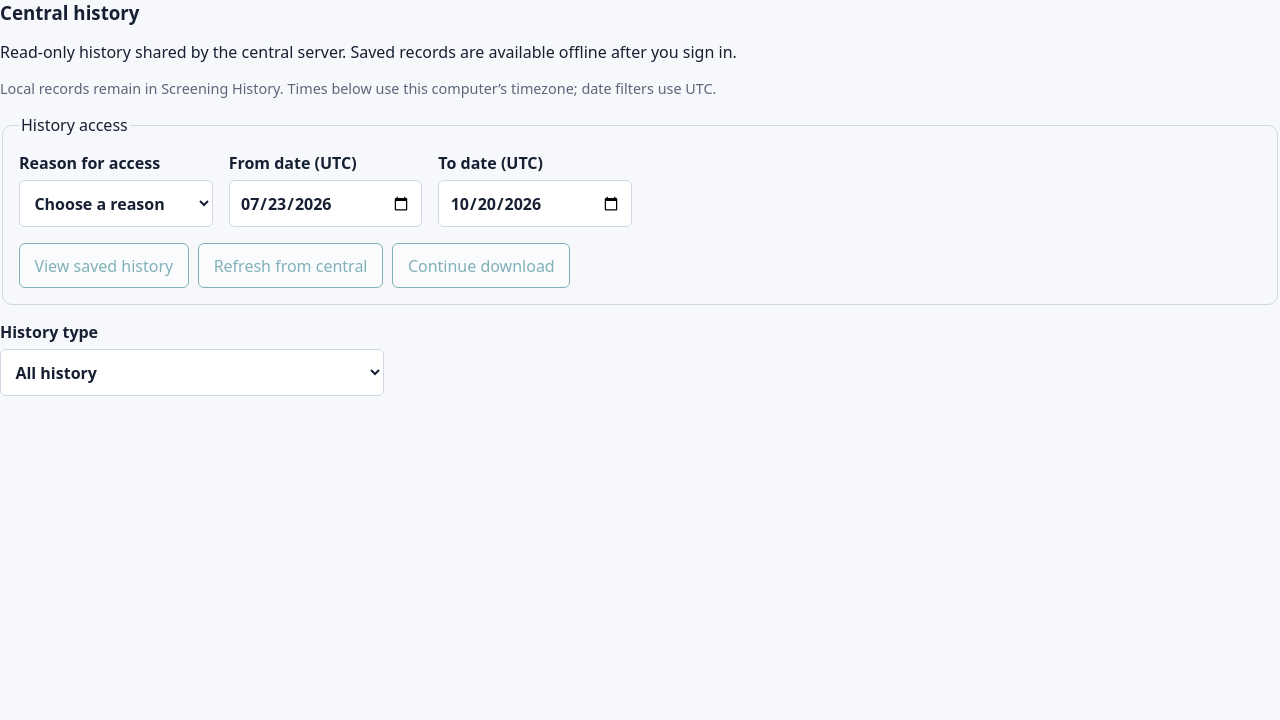
Test: central history desktop panel › pauses between pages and resumes without starting a second snapshot
Select "Care delivery" in the dropdown labelled "Reason for access": (116, 204) [19,180,213,227]
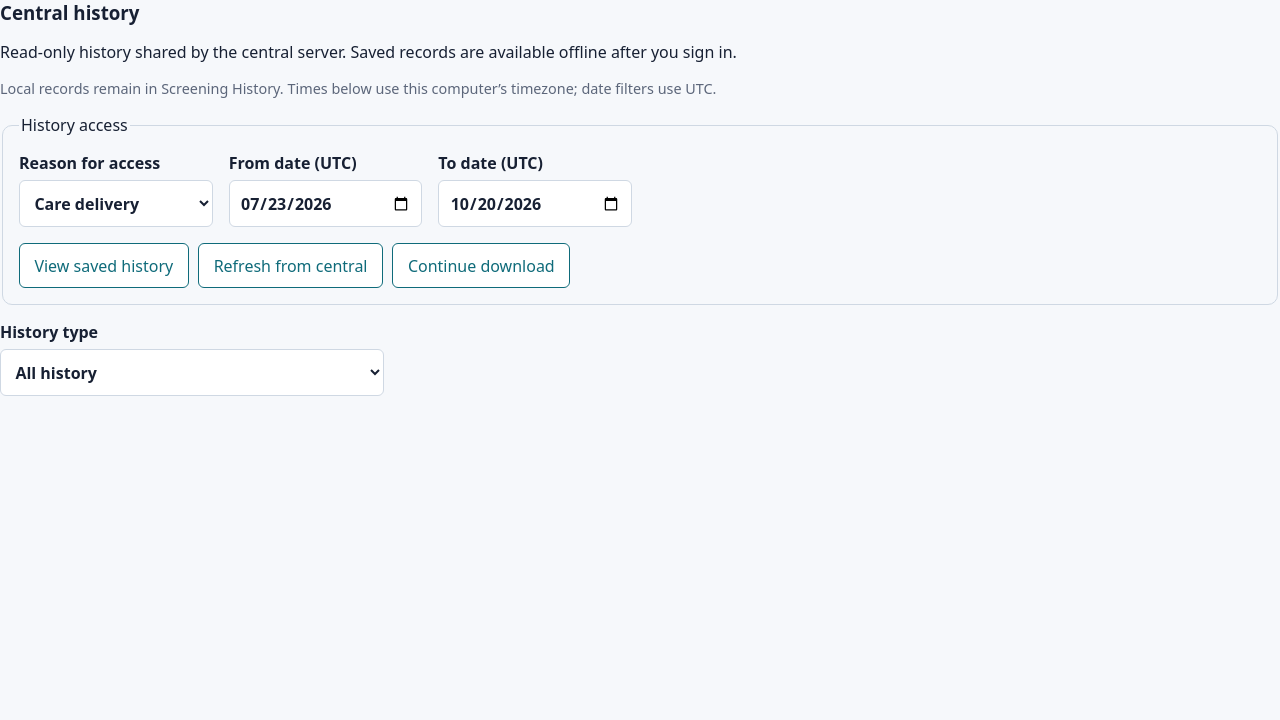
Click the button "Refresh from central": (291, 266) [198,243,383,288]
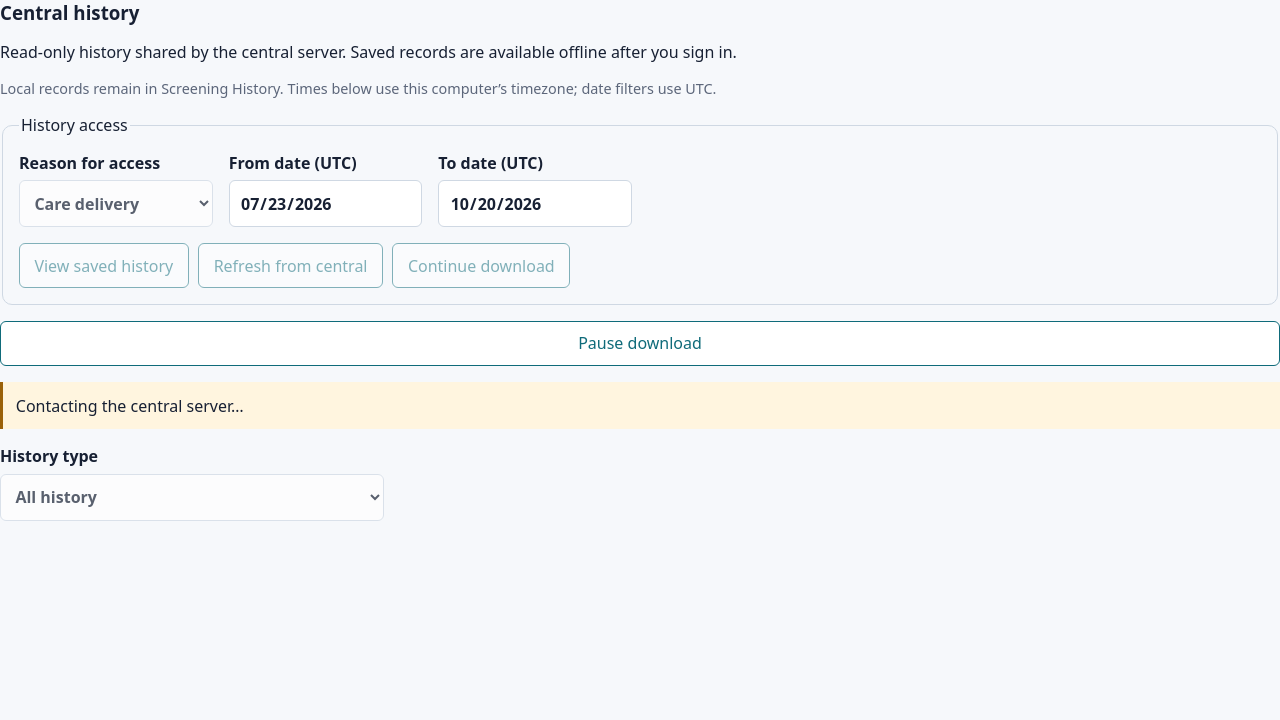
Click the button "Pause download": (640, 343) [0,321,1279,366]
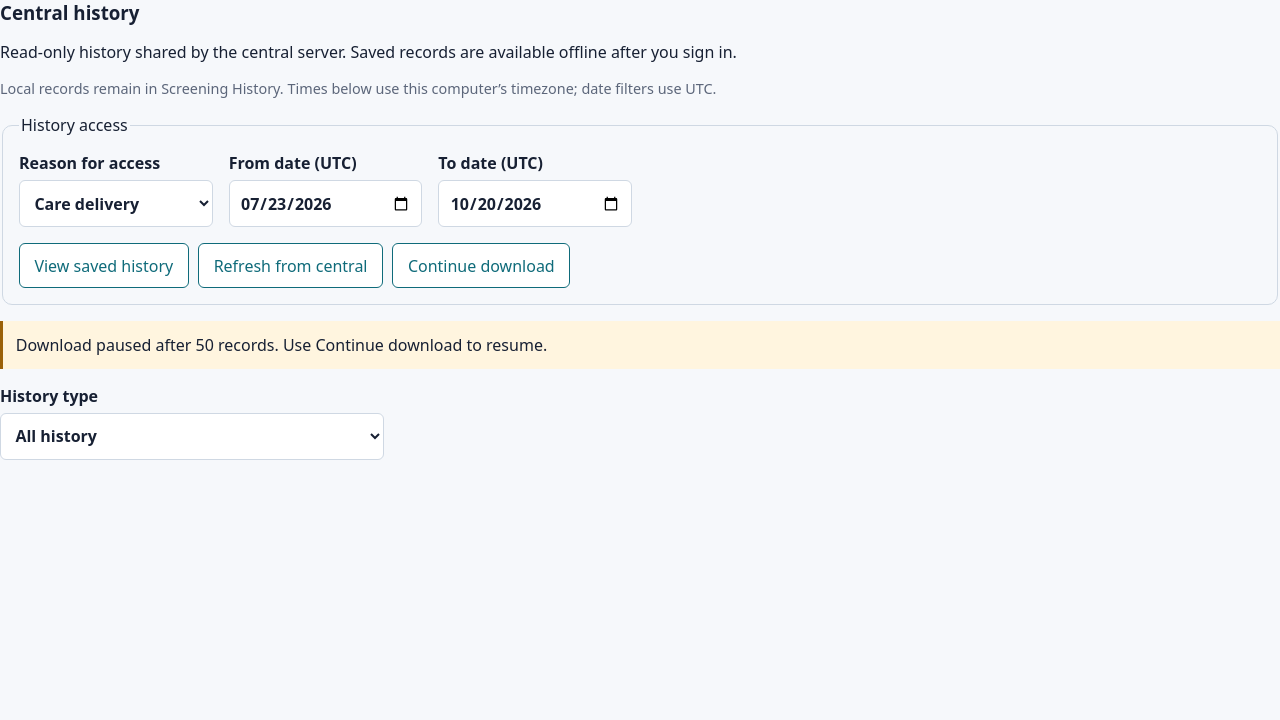
Expected: the text "Download paused after 50 records" is shown, [16,334,547,356]
Click the button "Continue download": (481, 266) [392,243,570,288]
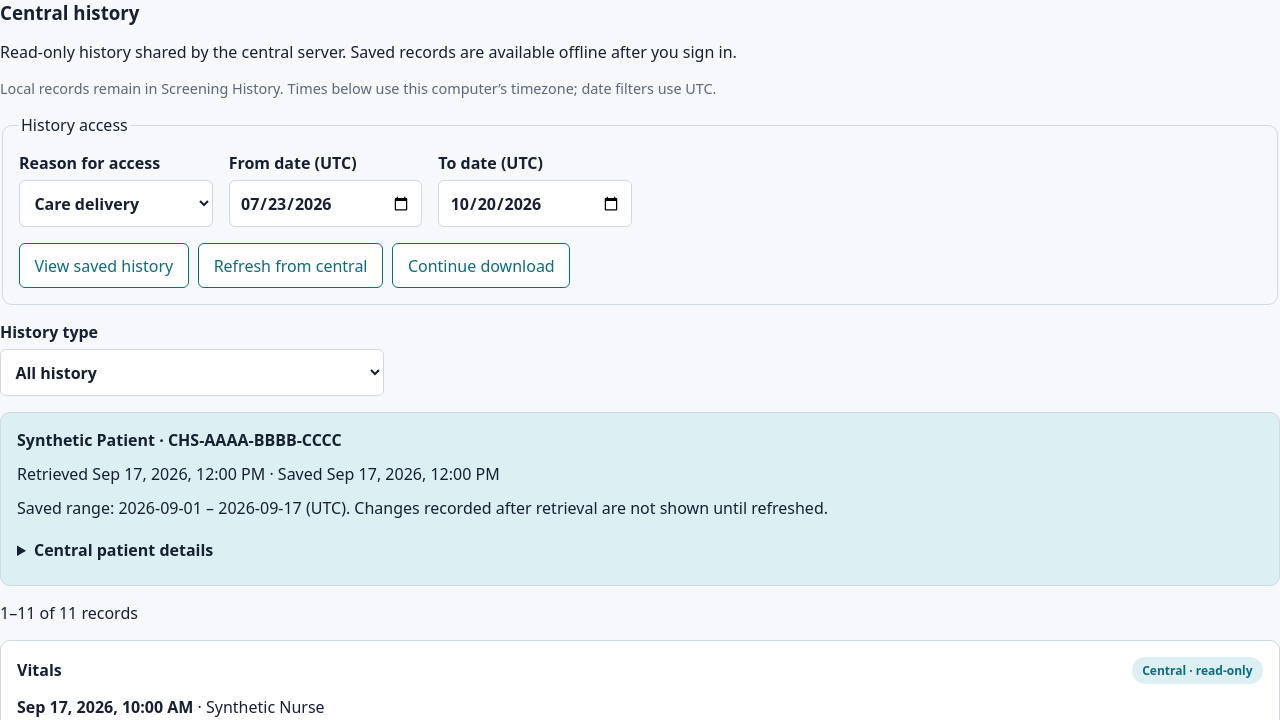
Expected: the number of elements with class "central-history-card" is 11
